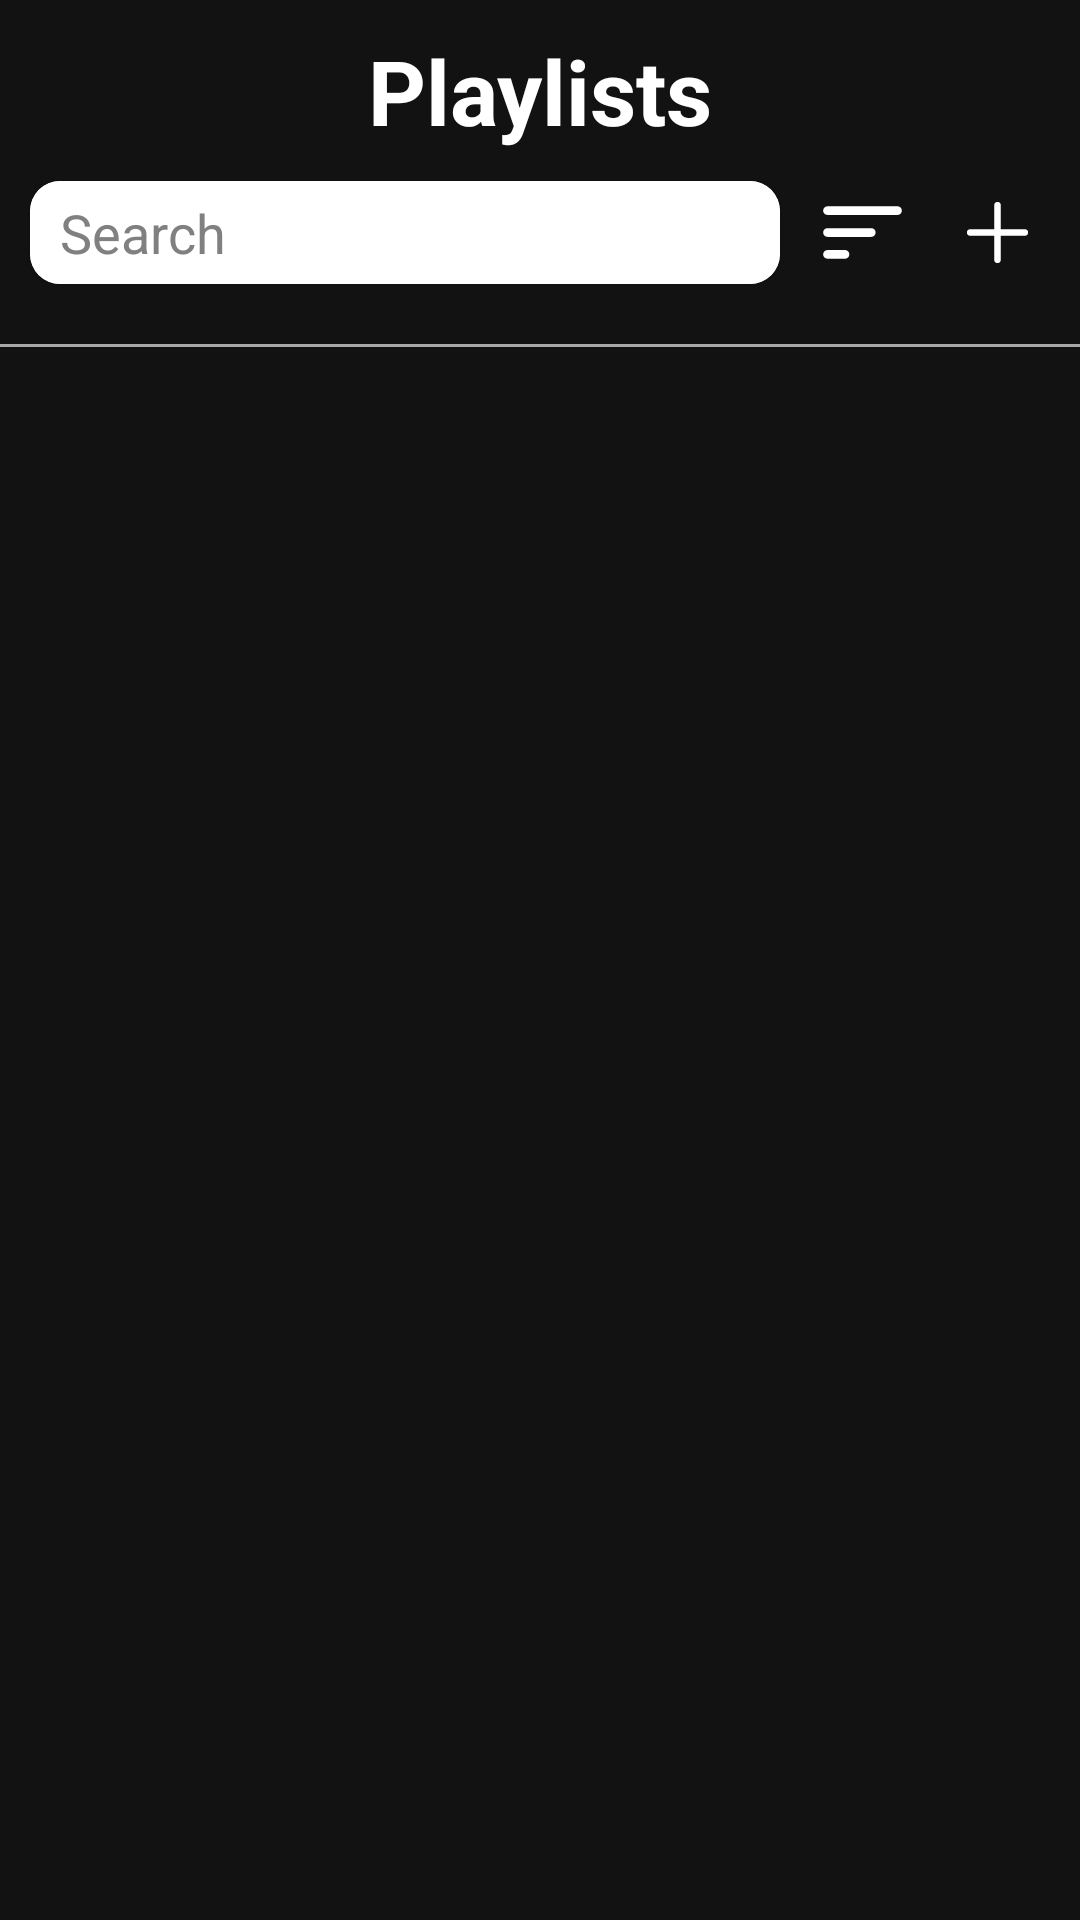

Where to tap for icons on this 1080 x 1920 app screen, as (x,y):
add: (997,232)
sort: (862,232)
